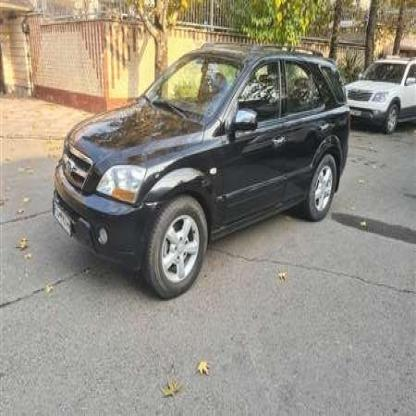Car: (42, 44, 350, 292), (338, 51, 416, 133)
